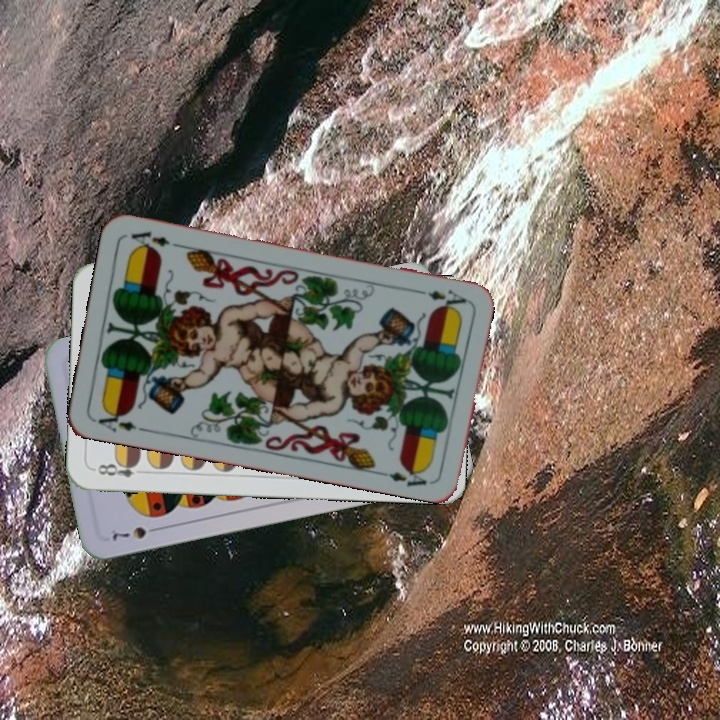E8: (90, 456, 149, 480)
EA: (91, 405, 150, 435), (410, 285, 469, 308)
S7: (108, 522, 164, 543)
